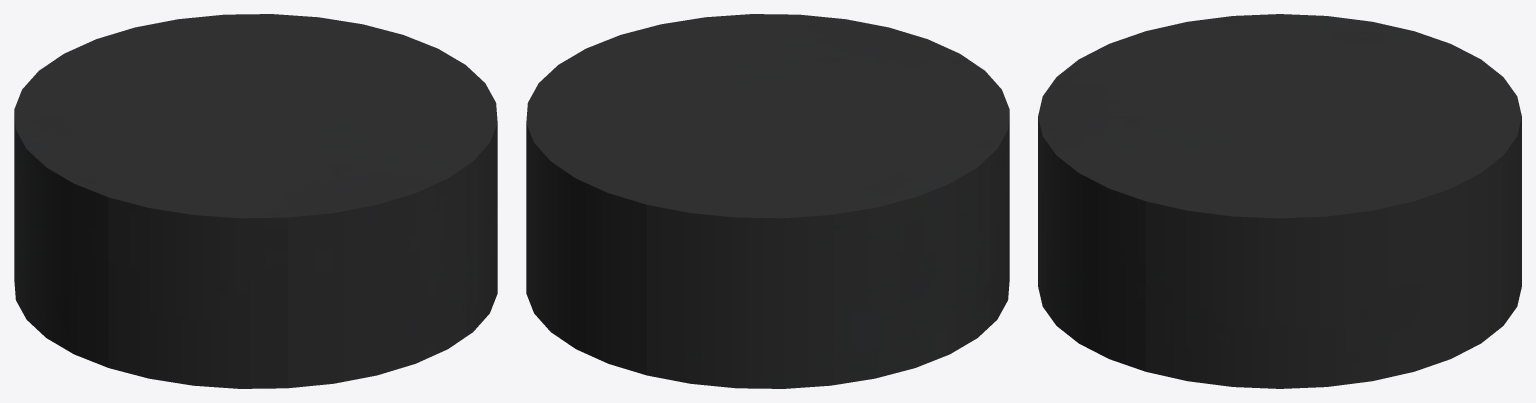
File: wheel_0__wheel_body.glb
3 views of the same model, side by side, from view 1: azimuth 30°, elevation 25°; view 2: azimuth 150°, elevation 25°; view 3: azimuth 270°, elevation 25° (orthographic).
Parts seen in each view (by area): view 1: world; view 2: world; view 3: world.
Boxes of the visible parts, x1,y1,x2,y2 form: world: (14,14,497,388); world: (526,14,1009,388); world: (1038,14,1521,388).
Bounding box in the file's own units: 0.09 × 0.035 × 0.09.
Materials: 1 (1 with a texture image).
